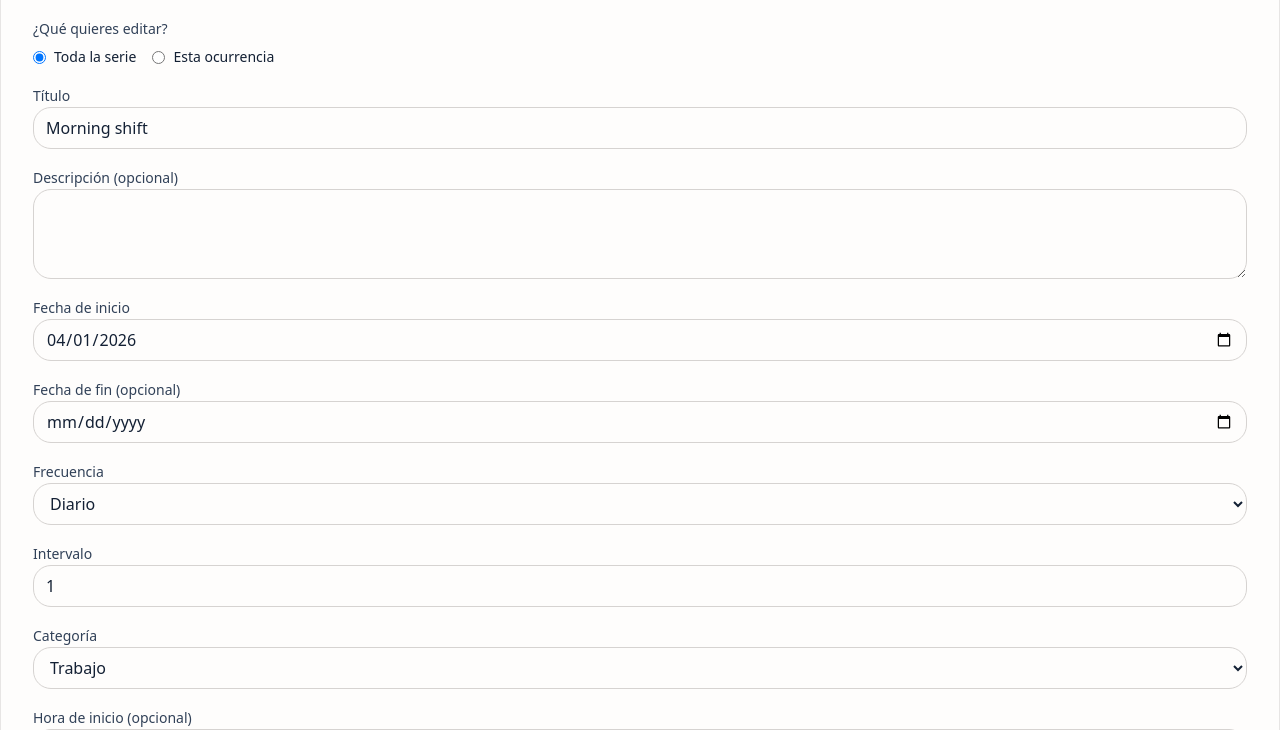
Test: EditEventForm › Recurring event - confirmation dialog when deleting exceptions › should open the dialog when frequencyUnit changed and hasExceptions is true
Select "Semanal" in the dropdown labelled "Frecuencia". click: (640, 504)
box: [33,483,1247,525]
(page scrolled)
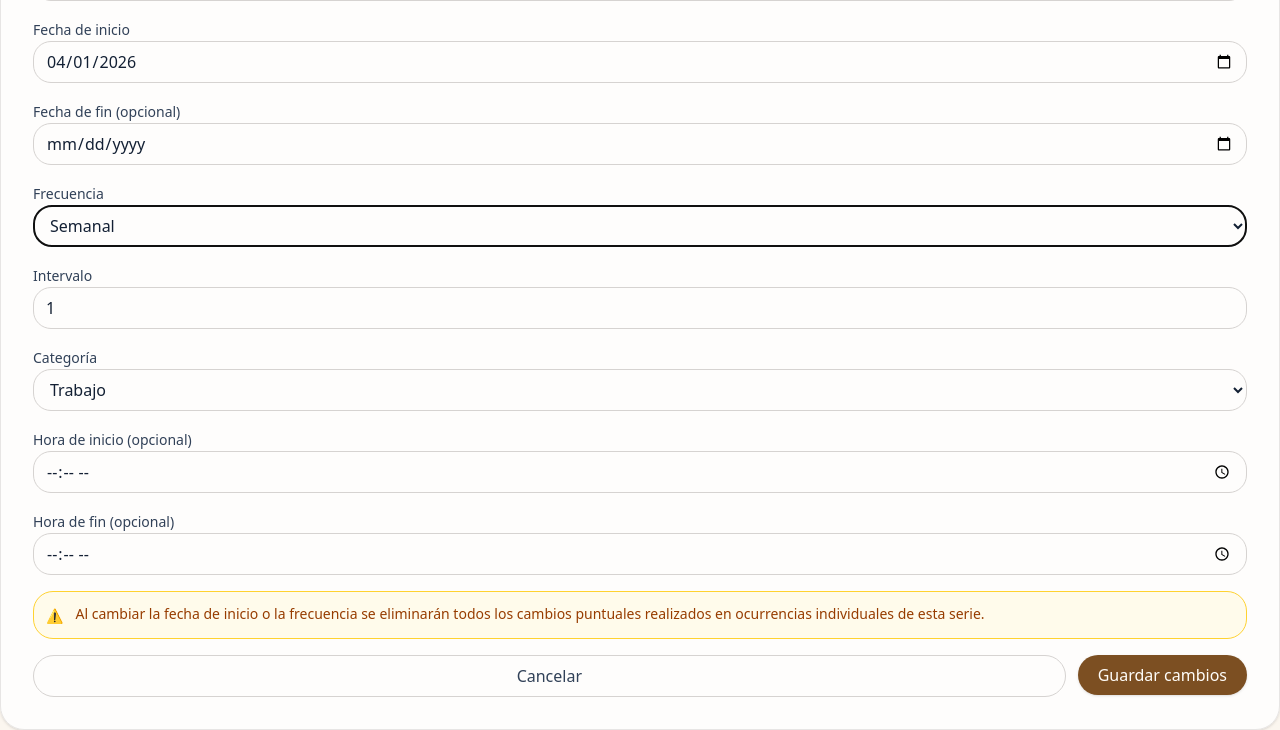
Click the button "Guardar cambios". click: click(1162, 675)
box: [1078,655,1247,695]
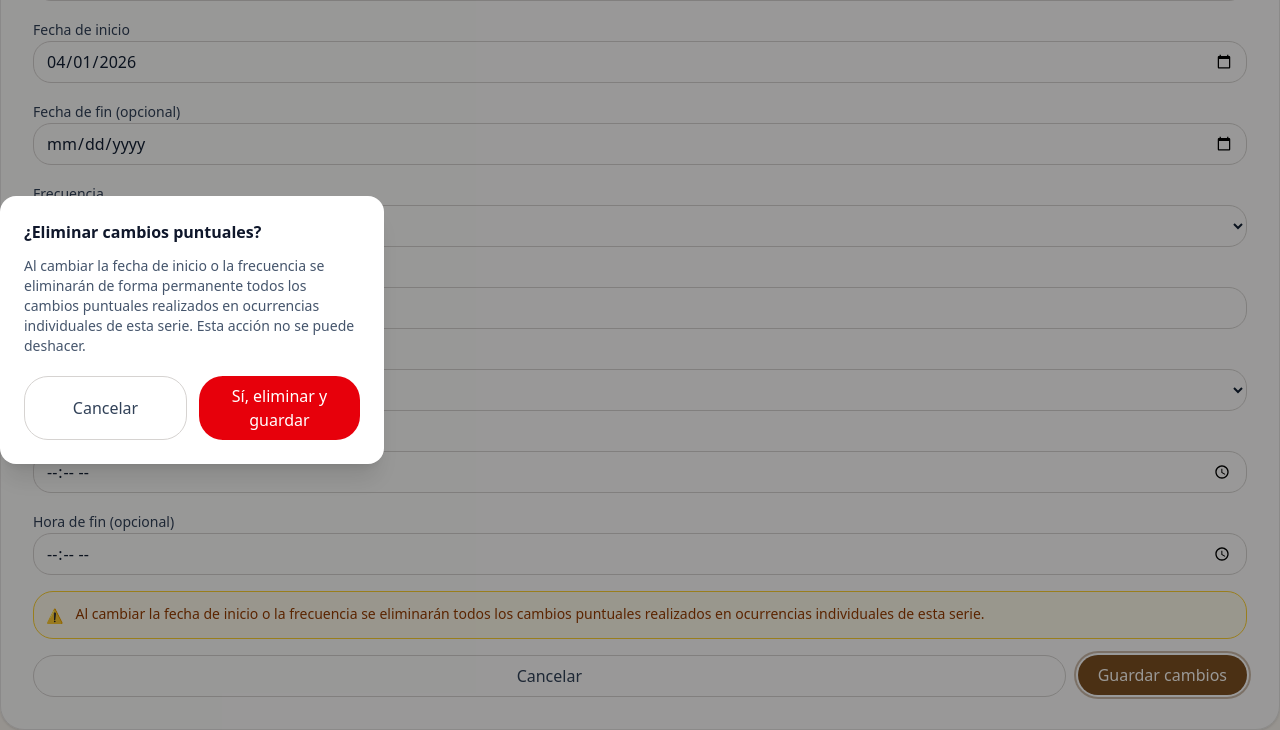
expect the dialog is shown: met, box [0,196,384,464]
